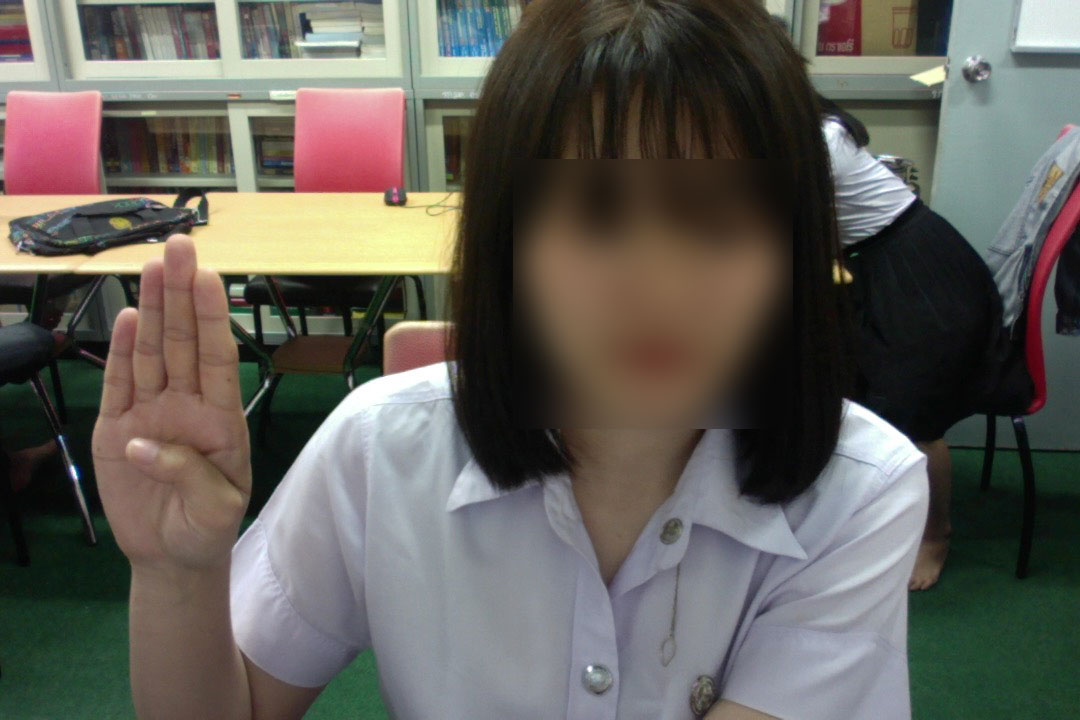bor: (86, 226, 261, 571)
